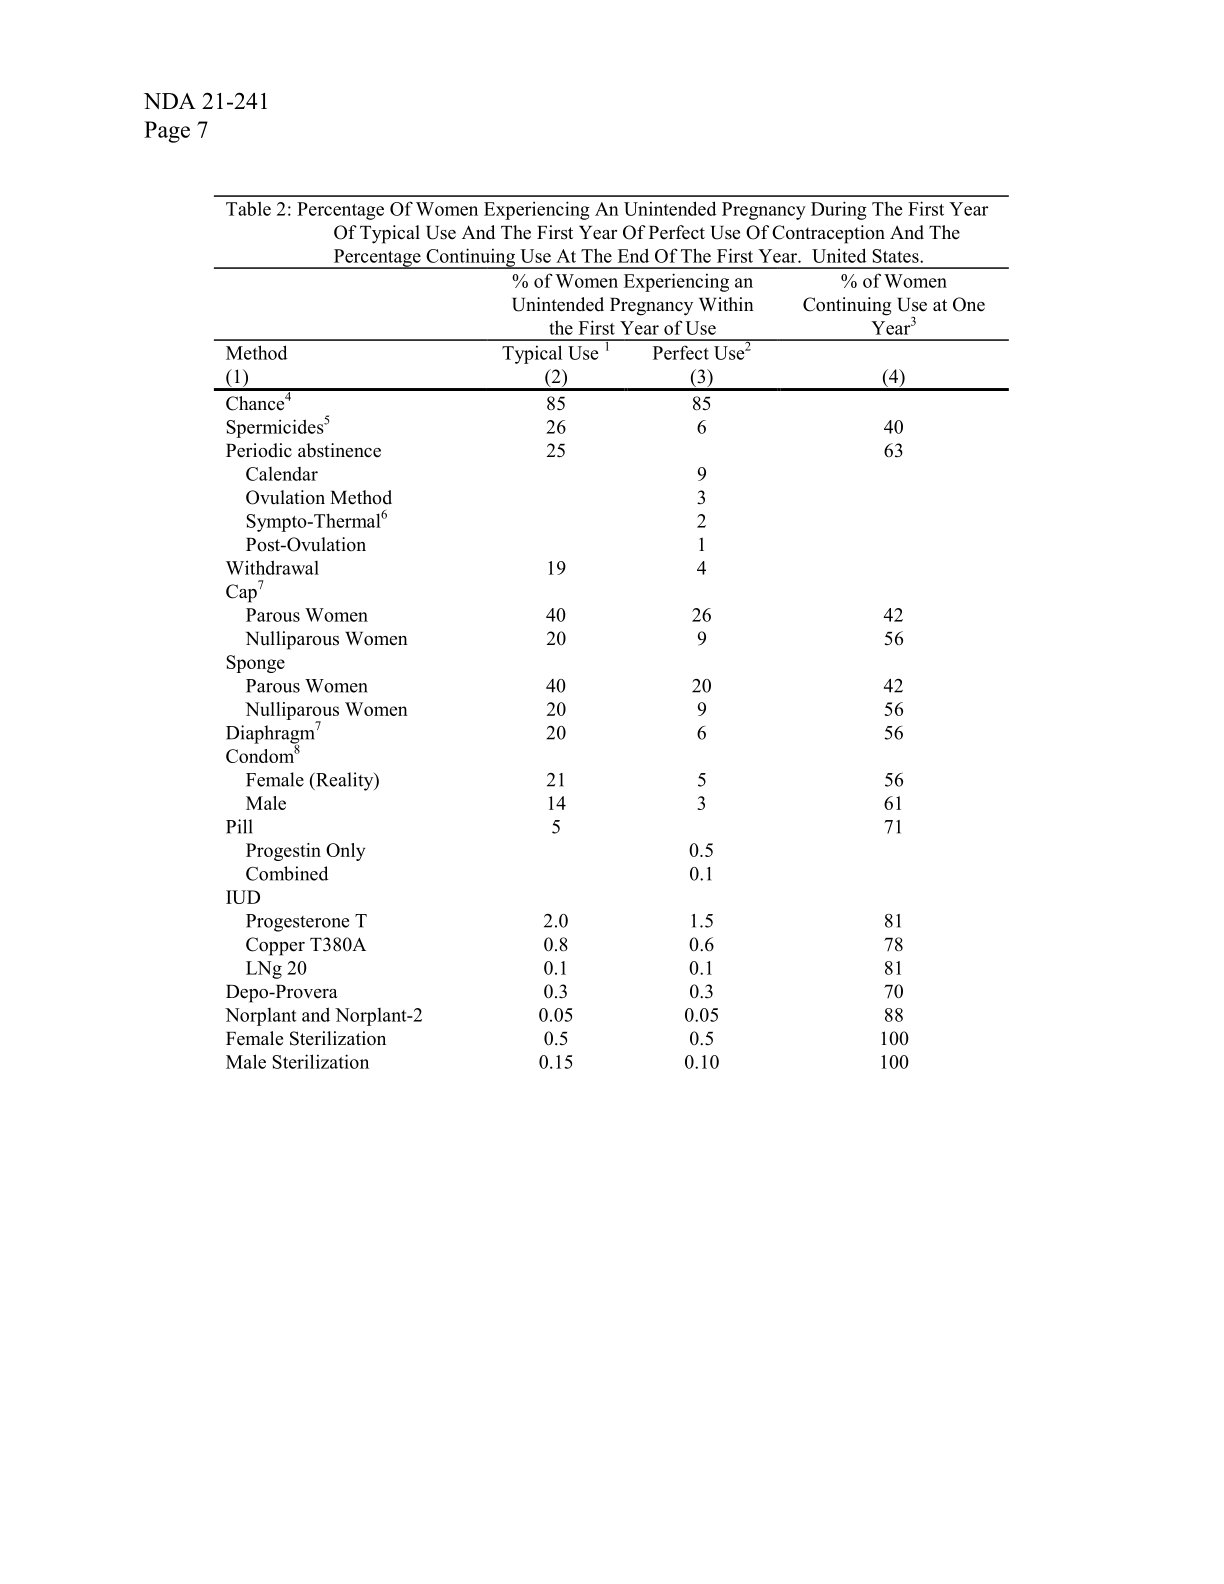partial_lined_merged_cells: (213, 265, 1011, 1072)
